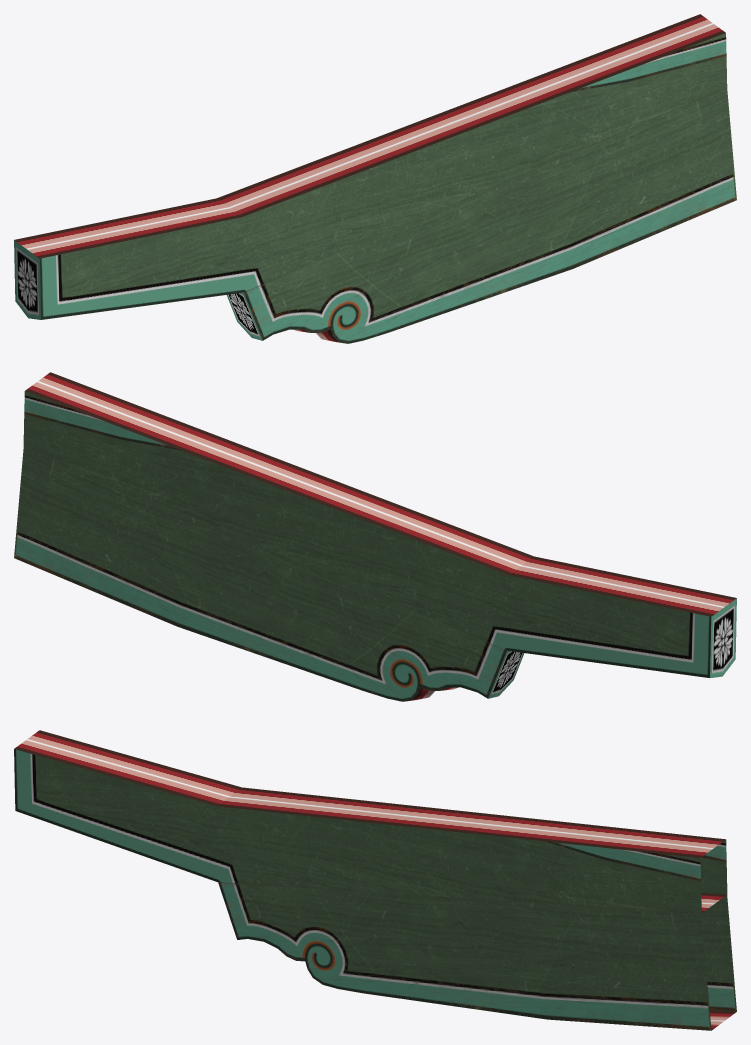
Rendered from SM_AngleRafter03C.fbx.
The picture shows the model from 3 angles, top to bottom: view 1: azimuth 30°, elevation 25°; view 2: azimuth 150°, elevation 25°; view 3: azimuth 330°, elevation 25°; orthographic projection.
Visible parts, largest first — view 1: SM_AngleRafter03C; view 2: SM_AngleRafter03C; view 3: SM_AngleRafter03C.
Boxes of the visible parts, x1,y1,x2,y2 form: SM_AngleRafter03C: (14, 14, 736, 343); SM_AngleRafter03C: (14, 372, 736, 701); SM_AngleRafter03C: (14, 730, 736, 1030).
Bounding box in the file's own units: 304 × 19.39 × 94.51.
1 material, 1 textured.
